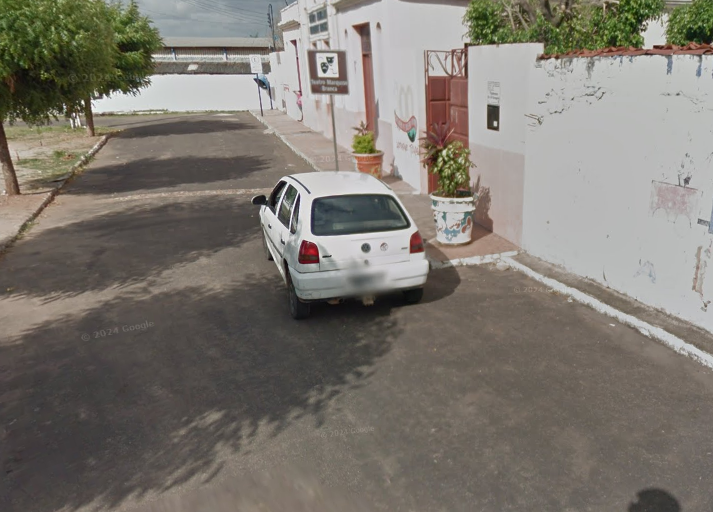car: (249, 163, 433, 333)
